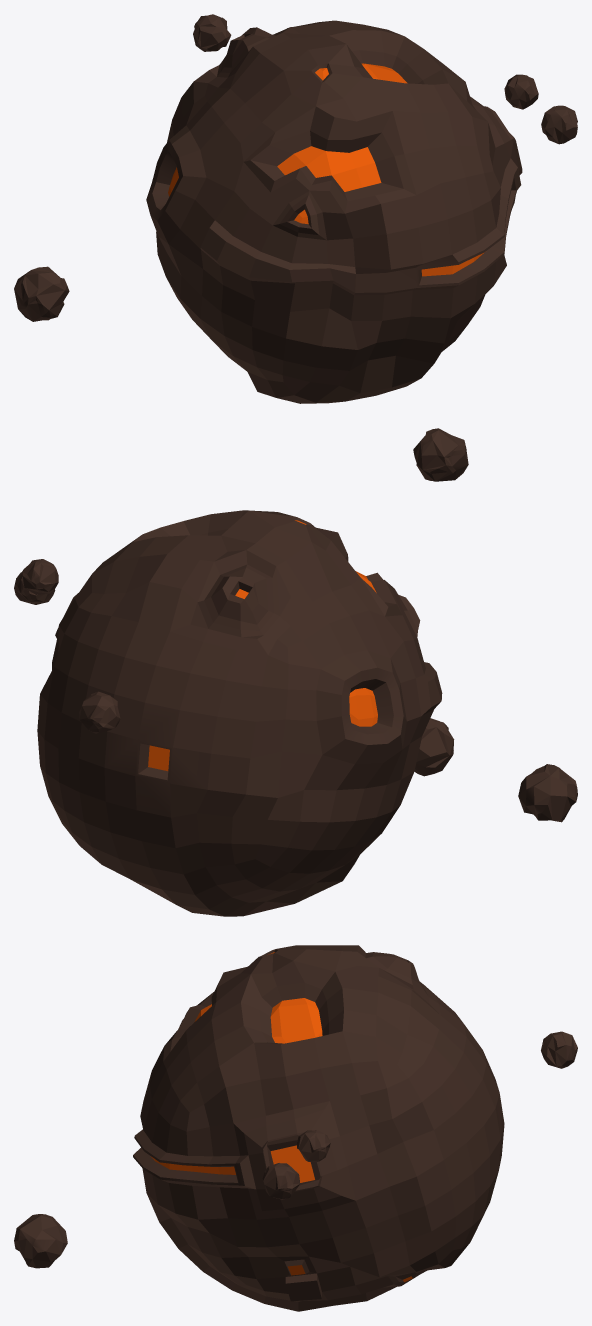
The model's file is vulcanic_planet.fbx.
3 views of the same model, one above another, from view 1: azimuth 30°, elevation 25°; view 2: azimuth 150°, elevation 25°; view 3: azimuth 270°, elevation 25° (orthographic). The views are drawn at different scales.
Parts seen in each view (by area): view 1: vulcanic_planet1; view 2: vulcanic_planet1; view 3: vulcanic_planet1.
Boxes of the visible parts, x1,y1,x2,y2 form: vulcanic_planet1: (14,14,577,481); vulcanic_planet1: (14,510,577,916); vulcanic_planet1: (14,945,577,1311).
Size of the model in its own units: 316 by 197 by 296.
